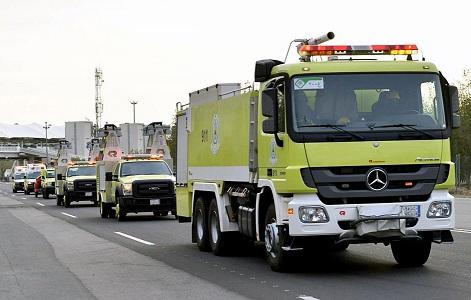firetruck_on: (174, 34, 460, 270), (98, 149, 176, 220), (56, 159, 99, 208)
